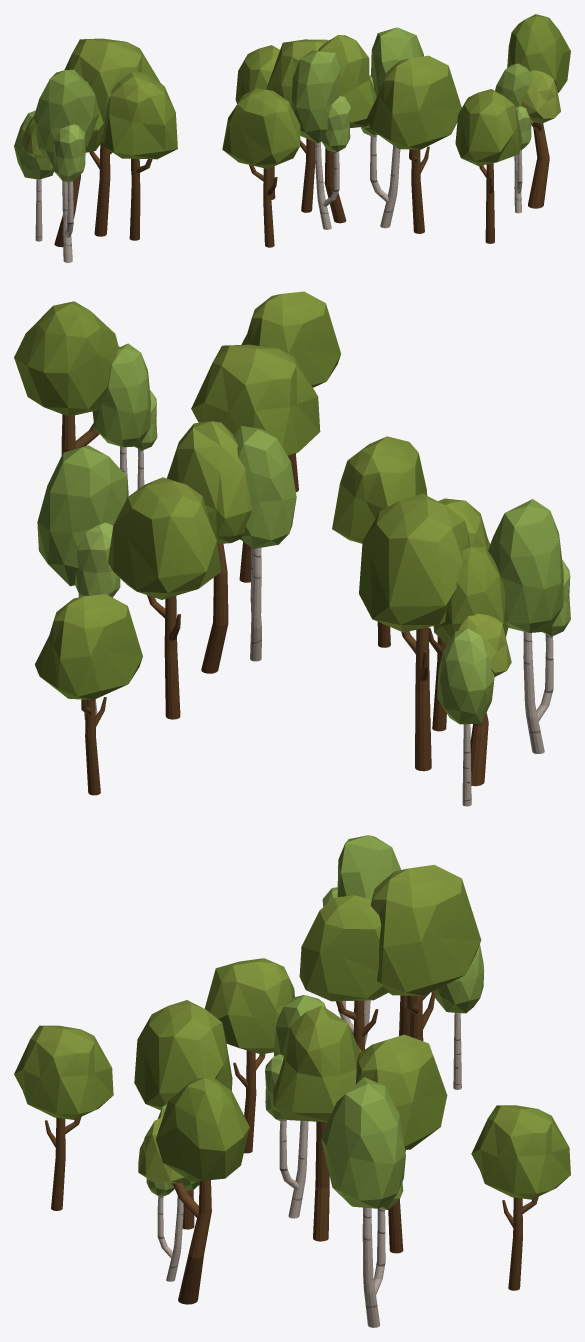
The model's file is Trees2.gltf.
The picture shows the model from 3 angles, top to bottom: view 1: azimuth 30°, elevation 25°; view 2: azimuth 150°, elevation 25°; view 3: azimuth 270°, elevation 25°; orthographic projection. The views are drawn at different scales.
Visible parts, largest first — view 1: Beechtree3 - copy.031, Beechtree3 - copy.011, BirchTree2 - copy.003, Beechtree2 - copy.011, Beechtree3 - copy.003, BirchTree2 - copy.036, Beechtree3 - copy.034, Beechtree3 - copy.010, Beechtree1 - copy.042, BirchTree2 - copy.042, Beechtree3 - copy.026, BirchTree2 - copy.041 (+3 smaller); view 2: Beechtree3 - copy.010, Beechtree3 - copy.026, BirchTree2 - copy.003, BirchTree2 - copy.042, Beechtree3 - copy.031, Beechtree3 - copy.027, Beechtree2 - copy.011, Beechtree1 - copy.042, BirchTree2 - copy.036, Beechtree3 - copy.003, Beechtree2 - copy.004, Beechtree3 - copy.034 (+3 smaller); view 3: Beechtree3 - copy.010, Beechtree2 - copy.011, BirchTree2 - copy.042, Beechtree1 - copy.042, Beechtree3 - copy.034, Beechtree3 - copy.027, Beechtree3 - copy.011, Beechtree3 - copy.031, Beechtree3 - copy.003, Beechtree3 - copy.026, BirchTree2 - copy.003, BirchTree2 - copy.036 (+2 smaller).
Part boxes in pixels (<box>): Beechtree3 - copy.031: <box>366,55,461,233</box>; Beechtree3 - copy.011: <box>101,72,177,240</box>; BirchTree2 - copy.003: <box>33,69,99,262</box>; Beechtree2 - copy.011: <box>507,14,570,208</box>; Beechtree3 - copy.003: <box>222,88,300,247</box>; BirchTree2 - copy.036: <box>291,50,350,229</box>; Beechtree3 - copy.034: <box>455,89,521,243</box>; Beechtree3 - copy.010: <box>64,38,159,236</box>; Beechtree1 - copy.042: <box>317,35,376,223</box>; BirchTree2 - copy.042: <box>360,27,423,228</box>; Beechtree3 - copy.026: <box>266,39,328,212</box>; BirchTree2 - copy.041: <box>495,63,533,213</box>; Beechtree3 - copy.010: <box>359,493,469,771</box>; Beechtree3 - copy.026: <box>108,477,221,719</box>; BirchTree2 - copy.003: <box>488,499,570,753</box>; BirchTree2 - copy.042: <box>37,445,128,719</box>; Beechtree3 - copy.031: <box>191,344,320,582</box>; Beechtree3 - copy.027: <box>35,594,142,795</box>; Beechtree2 - copy.011: <box>14,301,119,455</box>; Beechtree1 - copy.042: <box>167,421,252,673</box>; BirchTree2 - copy.036: <box>233,426,296,661</box>; Beechtree3 - copy.003: <box>332,436,427,647</box>; Beechtree2 - copy.004: <box>433,544,511,786</box>; Beechtree3 - copy.034: <box>241,291,340,492</box>; Beechtree3 - copy.010: <box>370,864,481,1040</box>; Beechtree2 - copy.011: <box>138,1077,249,1304</box>; BirchTree2 - copy.042: <box>321,1077,405,1327</box>; Beechtree1 - copy.042: <box>273,1005,361,1241</box>; Beechtree3 - copy.034: <box>14,1025,113,1210</box>; Beechtree3 - copy.027: <box>471,1105,570,1290</box>; Beechtree3 - copy.011: <box>299,895,388,1051</box>; Beechtree3 - copy.031: <box>134,1000,232,1229</box>; Beechtree3 - copy.003: <box>204,958,294,1153</box>; Beechtree3 - copy.026: <box>355,1034,447,1253</box>; BirchTree2 - copy.003: <box>322,835,401,1045</box>; BirchTree2 - copy.036: <box>265,995,325,1218</box>.
Bounding box in the file's own units: 27.76 × 13.63 × 23.08.
Materials: 5 (5 with a texture image).
